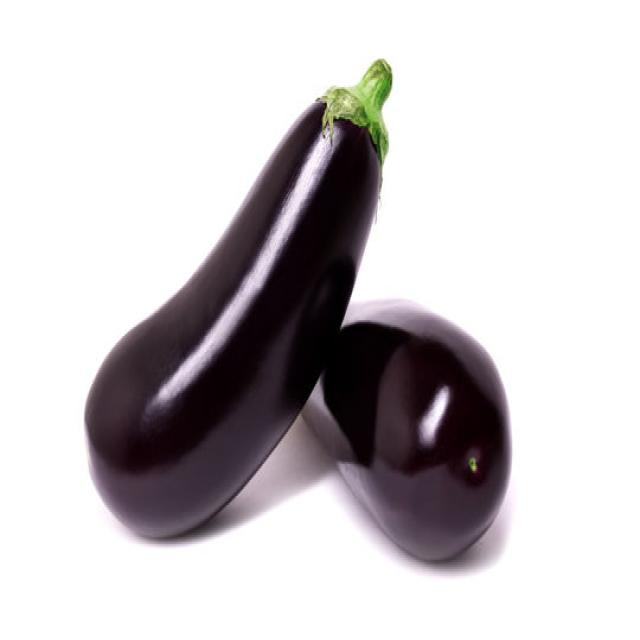Eggplant: (83, 55, 392, 539), (301, 295, 512, 564)
